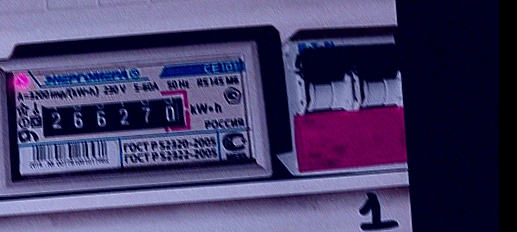0: (162, 103, 175, 121)
2: (47, 110, 61, 129), (116, 106, 128, 125)
6: (70, 109, 83, 128), (93, 108, 106, 127)
7: (139, 104, 151, 123)
screen: (29, 85, 195, 146)
